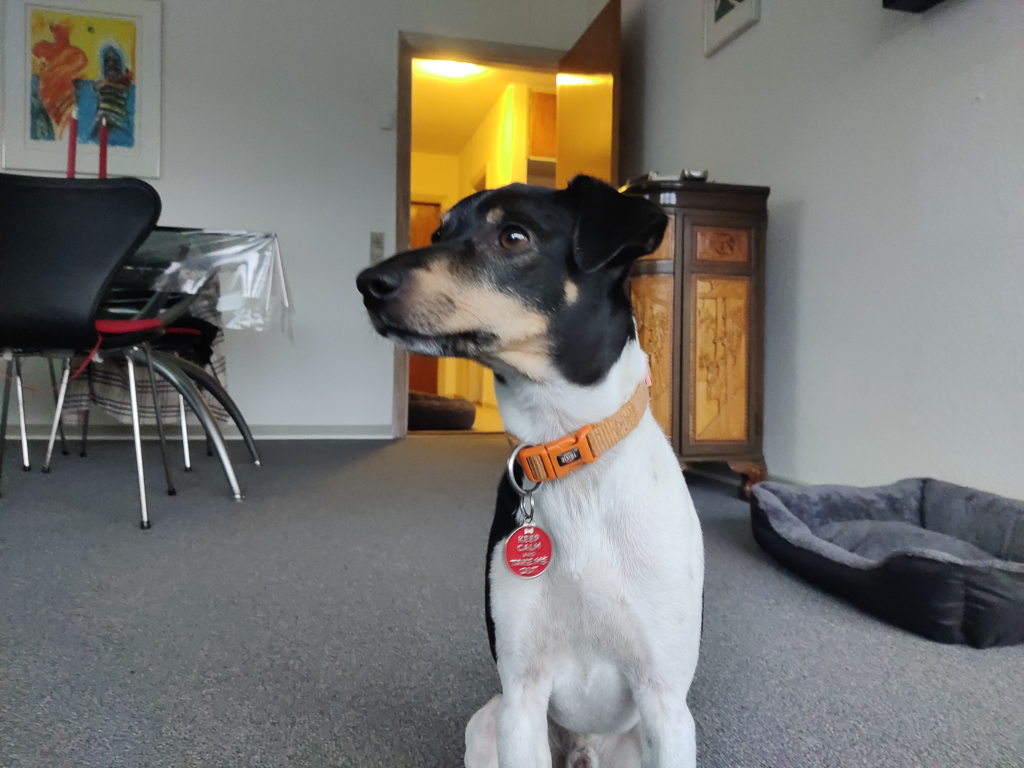Dog: (312, 155, 740, 768)
